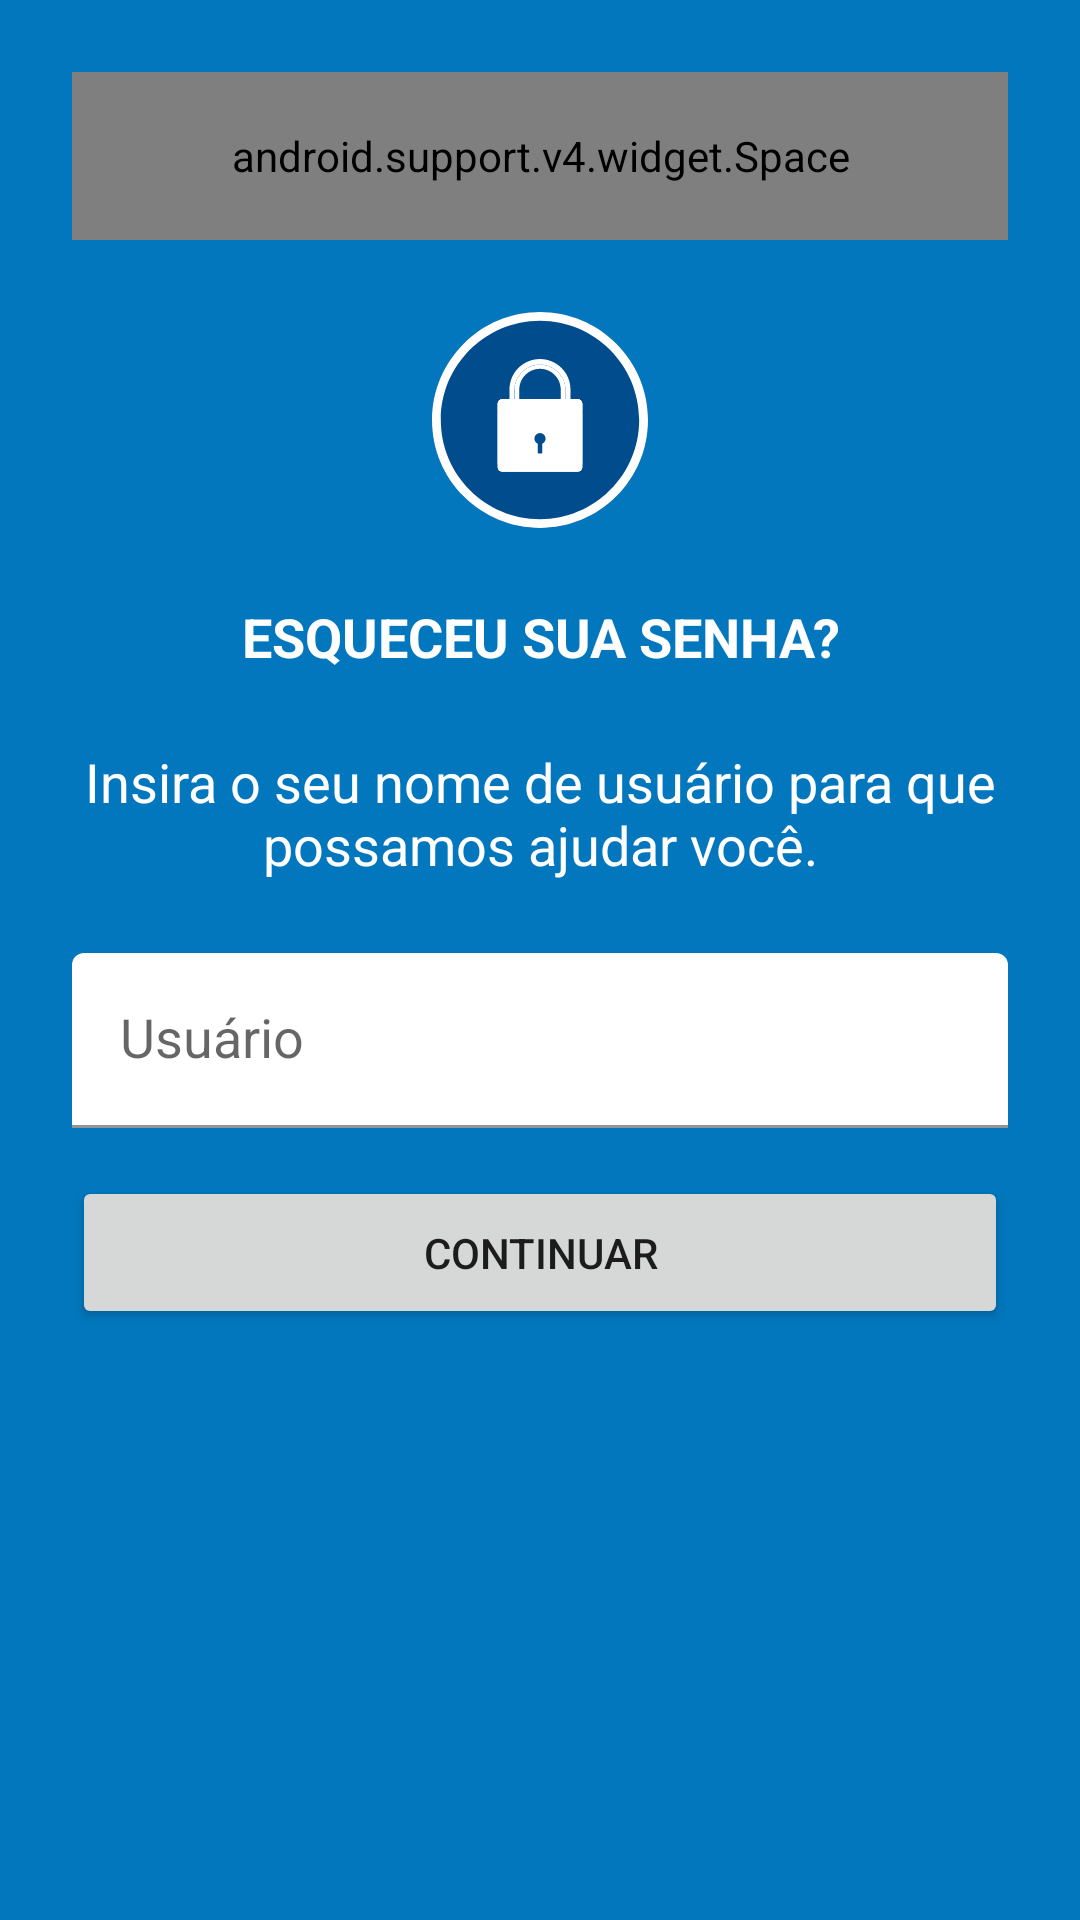

Screen size 1080w x 1920h. Icon name, then its center in pixels as point (x, y):
Cadeado: point (540, 420)
